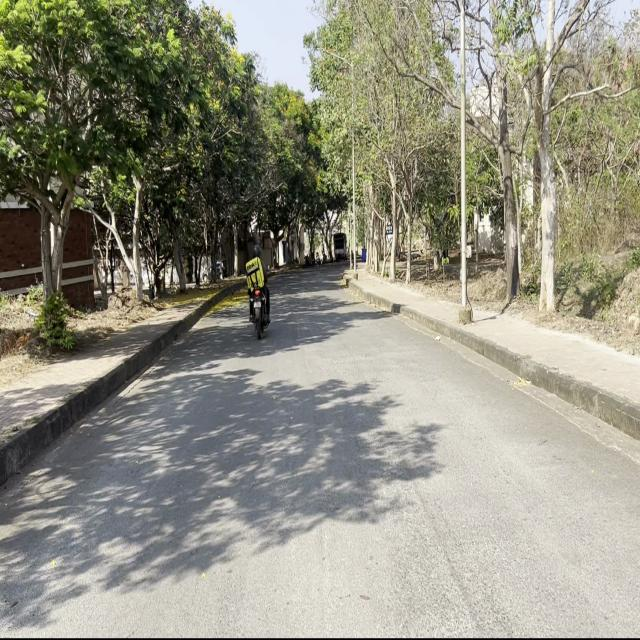Object: (241, 242, 273, 347)
Road: (3, 265, 636, 633)
